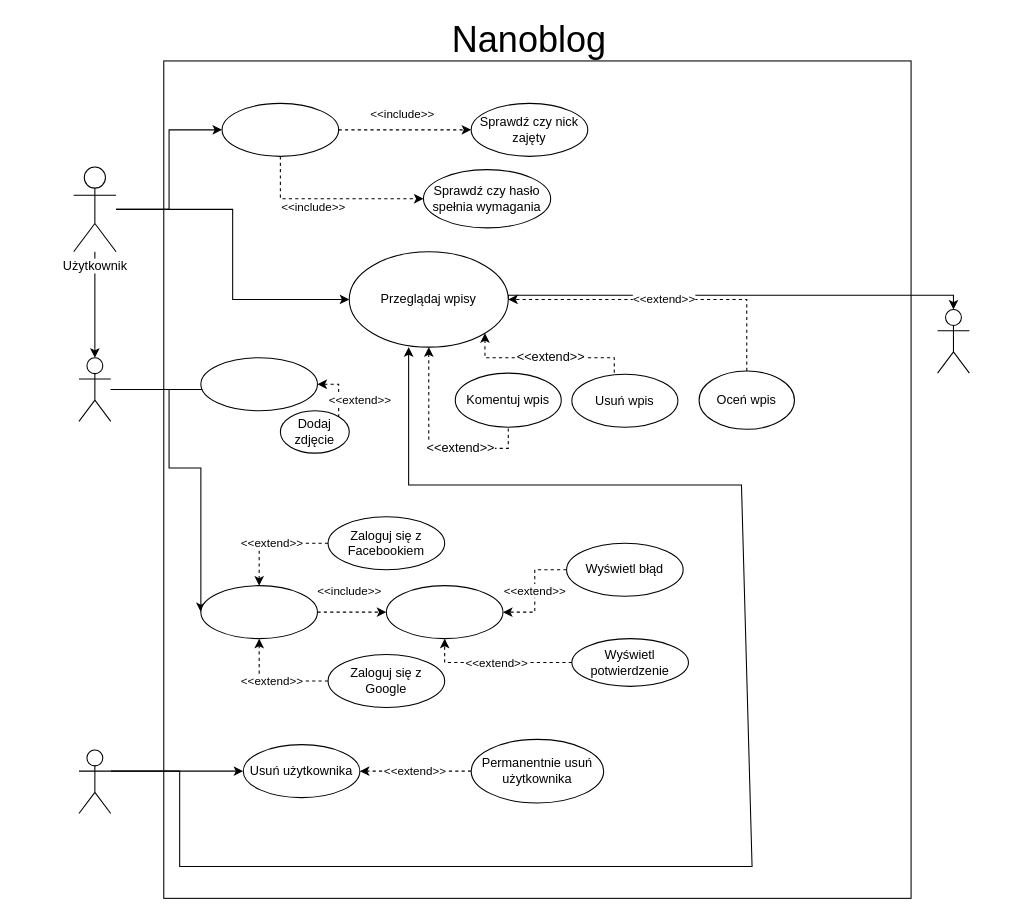
Some shapes in this 1012 by 917 pixel diagram are drawn without their labels. Each missing label, with the centre of its shape:
"Administrator" belongs at [94,781].
"API CivicFeed" belongs at [953,340].
"Dodaj wpis" belongs at [258,384].
"Użytkownik zarejestrowany" belongs at [94,389].
"Weryfikuj dane logowania" belongs at [444,612].
"Zaloguj się" belongs at [258,612].
"Zarejestruj się" belongs at [280,129].
